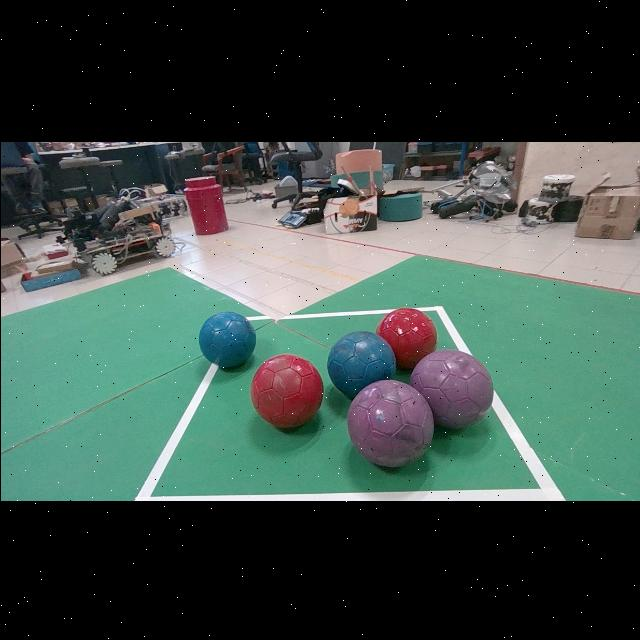B: (326, 330, 396, 397), (199, 310, 254, 367)
P: (346, 379, 433, 466), (410, 348, 493, 427)
R: (249, 353, 322, 427), (375, 306, 437, 368)
